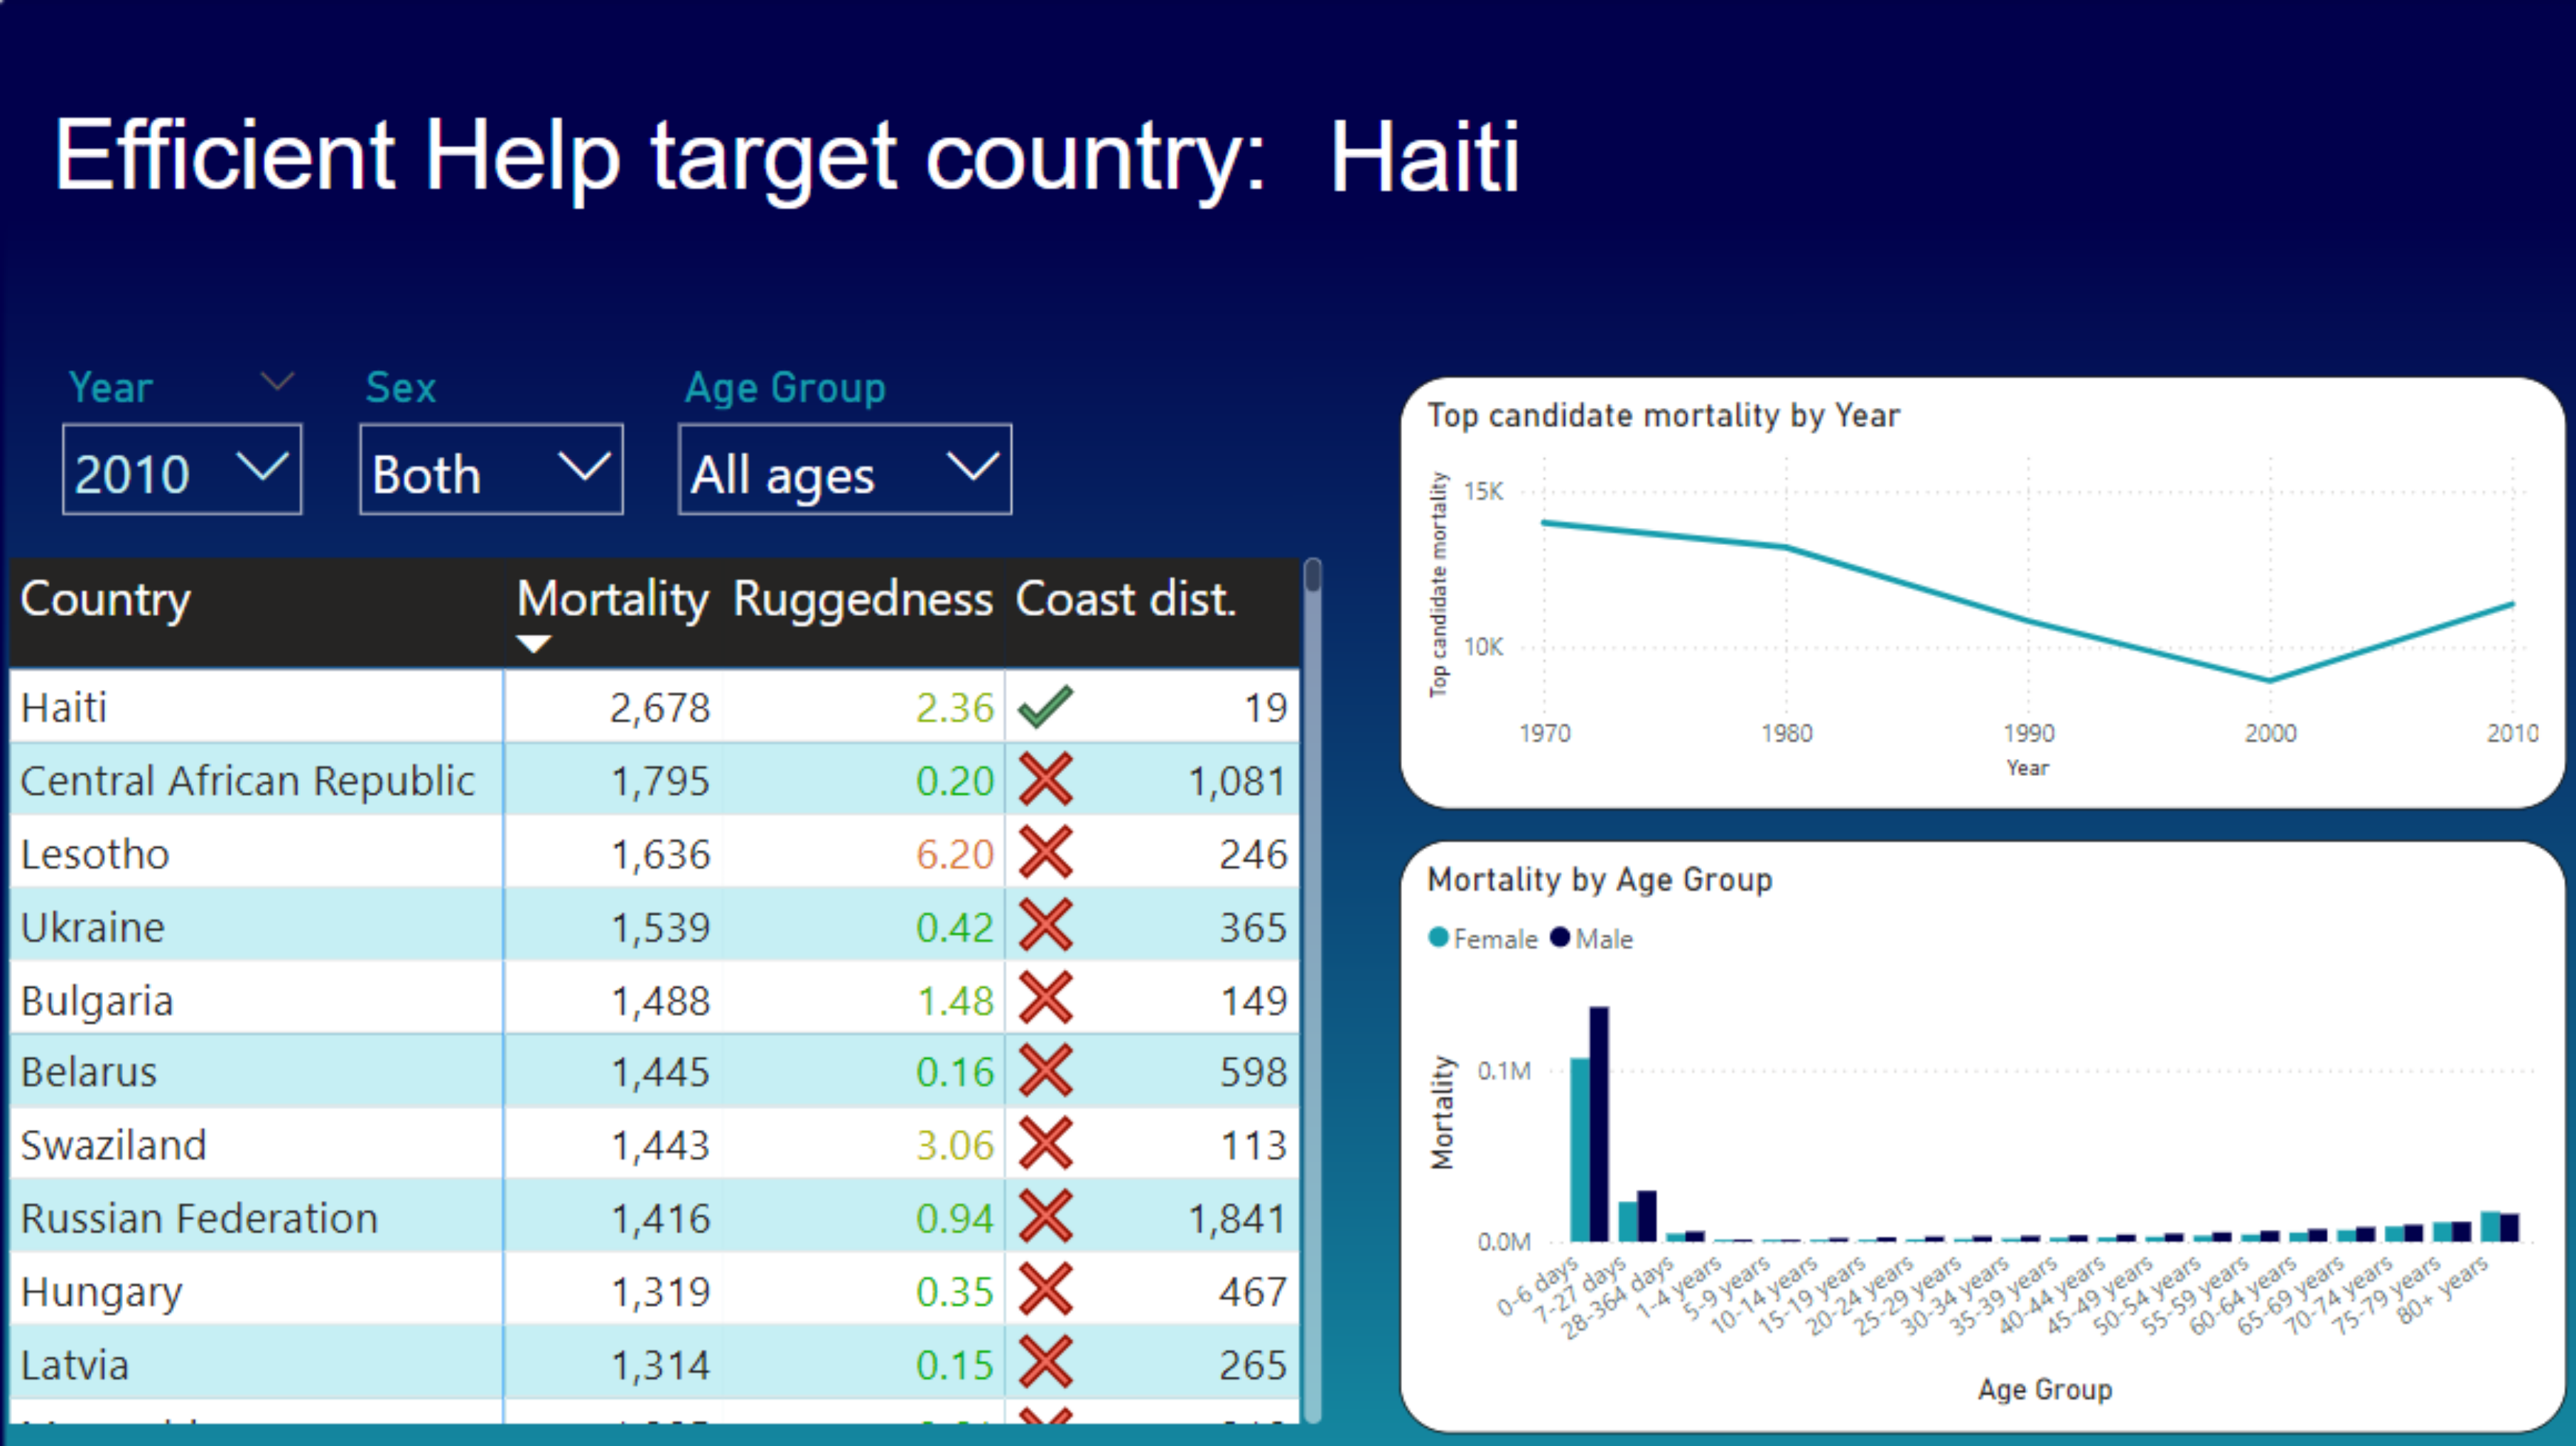

Layout of this report page (visuals, bound fields, positions):
{"tool":"powerbi","page":{"name":"Page 1","canvas":[1280,720],"ordinal":0},"visuals":[{"type":"shape","title":"Efficient Help","box":[0,0,1280,180],"z":0},{"type":"textbox","box":[14.3,21.4,1231.4,68.6],"z":1000},{"type":"pivotTable","title":"Mortality in 2010 in all ages and gender","fields":{"Rows":["RUGGEDNESS.country"],"Values":["MORTALITY.DeathRate in 2010 for both sex","Avg(RUGGEDNESS.rugged)"]},"box":[0,195.7,555.7,438.6],"z":2000},{"type":"lineClusteredColumnComboChart","fields":{"Category":["Age_groups.Age_Group"],"Y":["MORTALITY.Female_DathReate_2010_perAges_male","MORTALITY.Male_DeathReate_2010_perAges_male"],"Y2":["MORTALITY.Both_DeathReate_2010_perAges_male"]},"box":[555.7,221.4,724.3,438.6],"z":3000},{"type":"cardVisual","fields":{"Data":["MORTALITY.Selected","MORTALITY.Top_mortality","MORTALITY.Top_country"]},"box":[555.7,494,521.4,226.4],"z":3501}]}

Visuals, with their boxes in screenshot pixels (x1, y1, x2, y2), scaled from the page's 1280x720 canvas onto the 2576x1446 screenshot:
"Efficient Help" shape: [x1=0, y1=0, x2=2575, y2=362]
textbox: [x1=28, y1=43, x2=2507, y2=180]
"Mortality in 2010 in all ages and gender" pivotTable: [x1=0, y1=393, x2=1119, y2=1274]
lineClusteredColumnComboChart - Age_groups.Age_Group x MORTALITY.Female_DathReate_2010_perAges_male: [x1=1119, y1=445, x2=2575, y2=1325]
cardVisual - MORTALITY.Selected x MORTALITY.Top_mortality: [x1=1119, y1=992, x2=2167, y2=1445]
